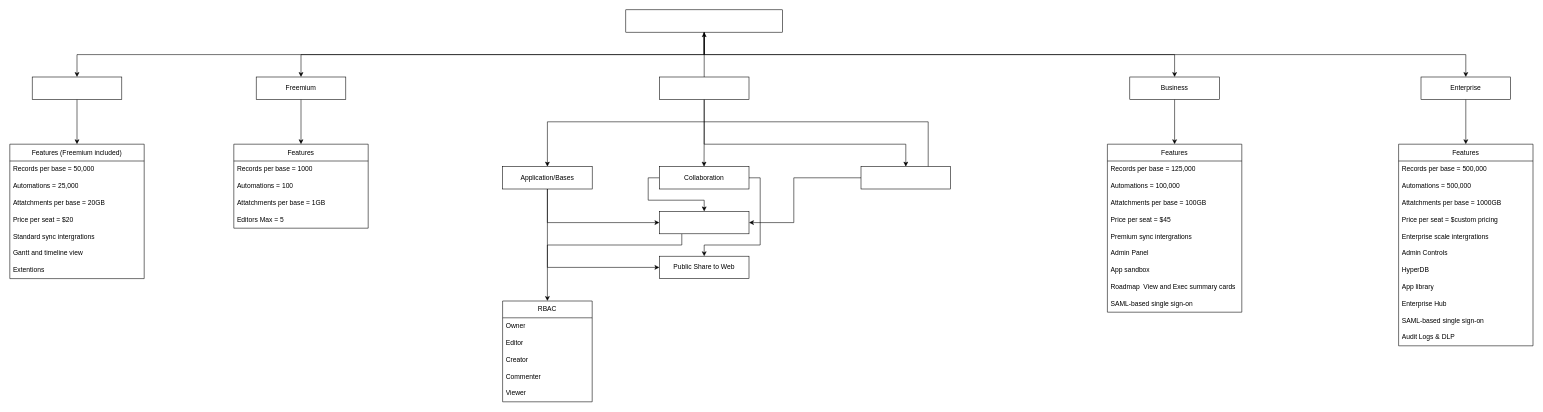
The diagram is 1543 pixels wide and 412 high, and some of its shapes have lost their labels. Each missing label, with the centre of its shape:
"Base Business Model" belongs at (704,87).
"RBAC invite" belongs at (704,222).
"staging.airtable.com" belongs at (704,20).
"Team" belongs at (77,87).
"Workspaces" belongs at (905,177).
